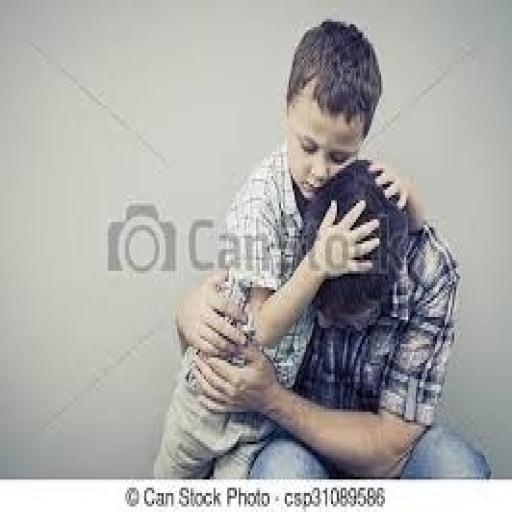hugging: (152, 16, 491, 480)
